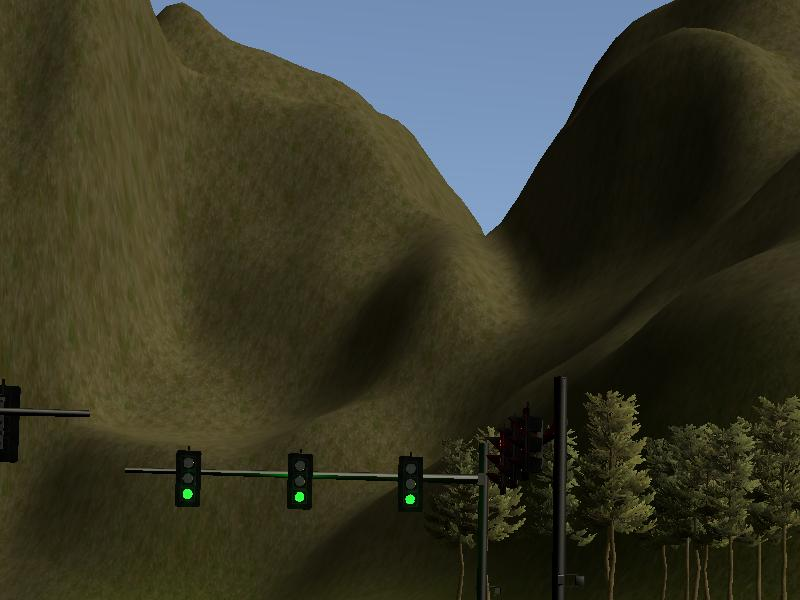green: (174, 450, 202, 507), (286, 452, 314, 509), (398, 456, 426, 513)
